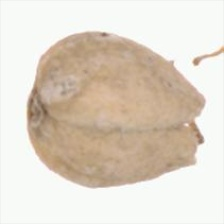L1: (184, 91, 209, 167), (23, 69, 45, 135)
L2: (26, 31, 207, 188)
